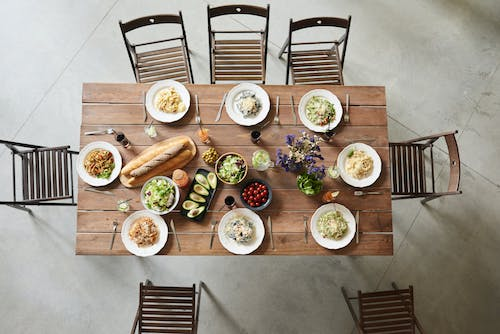knife: (214, 91, 229, 122), (83, 186, 116, 198), (170, 218, 181, 251), (353, 210, 362, 246), (289, 94, 298, 126), (267, 214, 275, 250), (142, 89, 147, 122)
